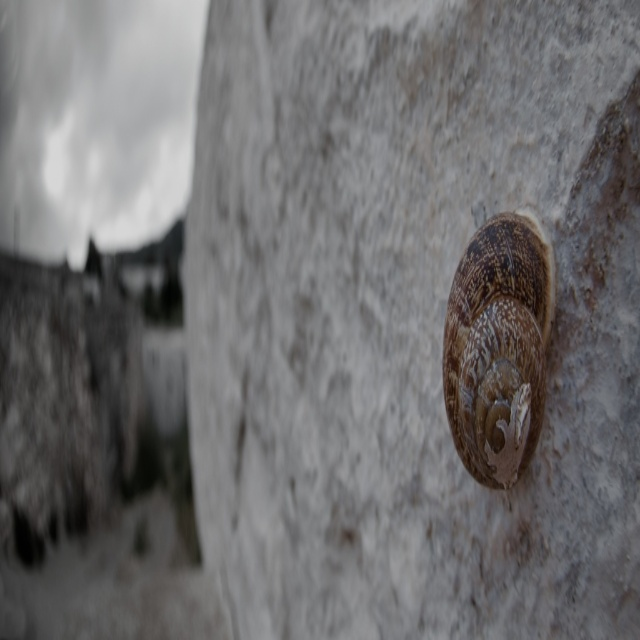Snail: (439, 207, 558, 508)
